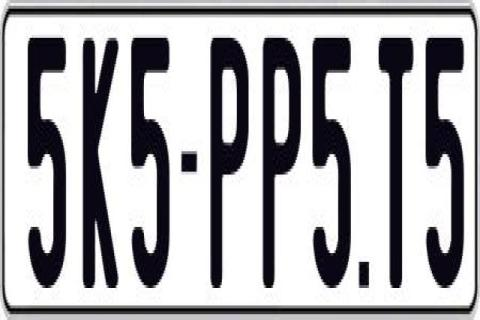0: (25, 35, 69, 303), (128, 38, 171, 306), (309, 38, 353, 297), (425, 35, 465, 303)
K: (82, 35, 122, 299)
P: (262, 38, 304, 302), (210, 29, 250, 291)
T: (376, 35, 412, 288)
